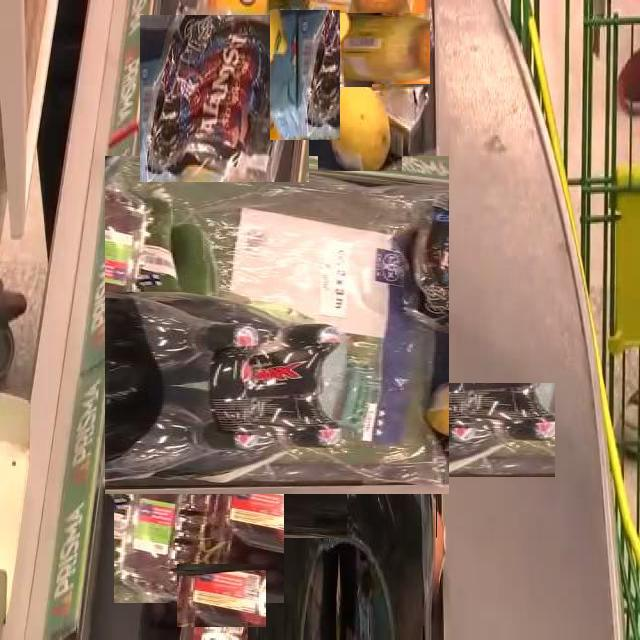beverage: (282, 323, 496, 537), (196, 397, 388, 588), (202, 307, 388, 493), (347, 343, 436, 640)
food-box: (140, 14, 310, 182), (269, 9, 340, 140), (337, 7, 424, 93), (372, 84, 436, 154)
fruit: (123, 460, 275, 612), (318, 76, 402, 172), (184, 557, 260, 634)
vegetable: (106, 155, 448, 496), (144, 376, 305, 474)
